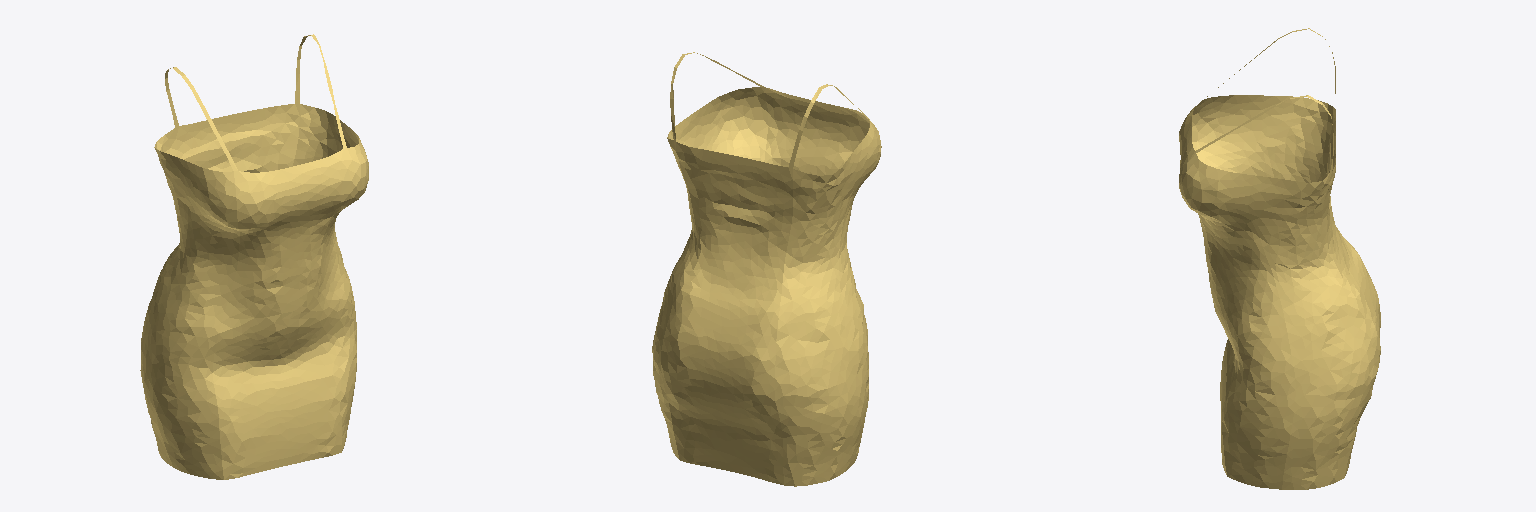
The picture shows the model from 3 angles: view 1: azimuth 30°, elevation 25°; view 2: azimuth 150°, elevation 25°; view 3: azimuth 270°, elevation 25°; orthographic projection.
Parts seen in each view (by area): view 1: large_beigeBodycon:polySurface1; view 2: large_beigeBodycon:polySurface1; view 3: large_beigeBodycon:polySurface1.
Boxes of the visible parts, x1,y1,x2,y2 form: large_beigeBodycon:polySurface1: [140, 34, 368, 479]; large_beigeBodycon:polySurface1: [652, 52, 881, 486]; large_beigeBodycon:polySurface1: [1179, 28, 1380, 489].
Bounding box in the file's own units: 383 × 732 × 343.
Materials: 10 (1 with a texture image).